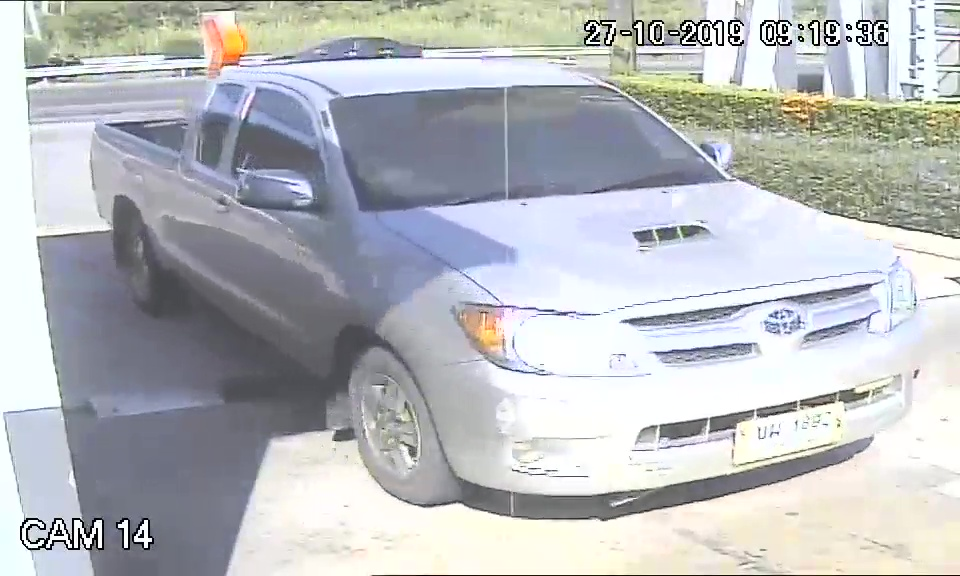pickup: (88, 60, 933, 508)
